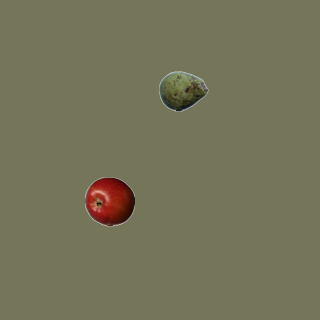Apple Braeburn: (84, 176, 134, 226)
Pear Stone: (158, 66, 208, 116)
